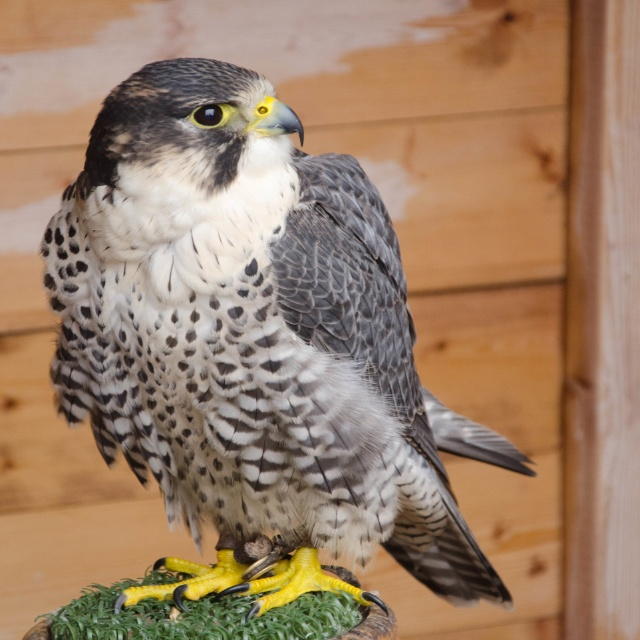Owl: (43, 55, 537, 620)
